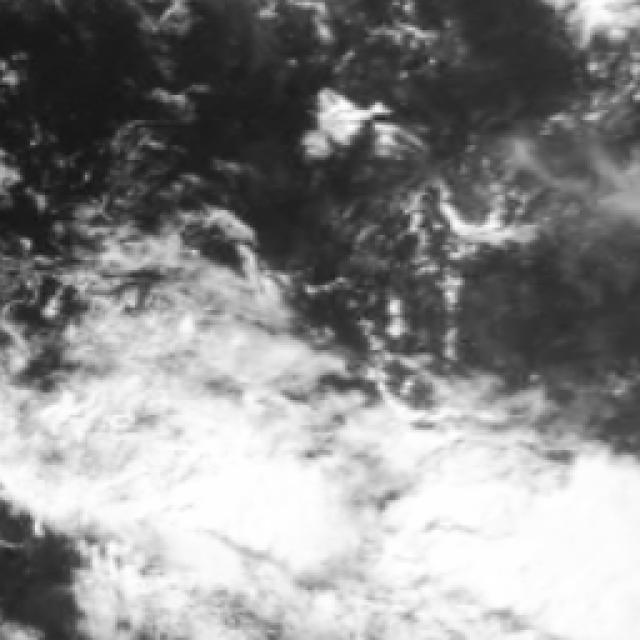CB: (435, 483, 640, 640), (106, 387, 293, 554)
